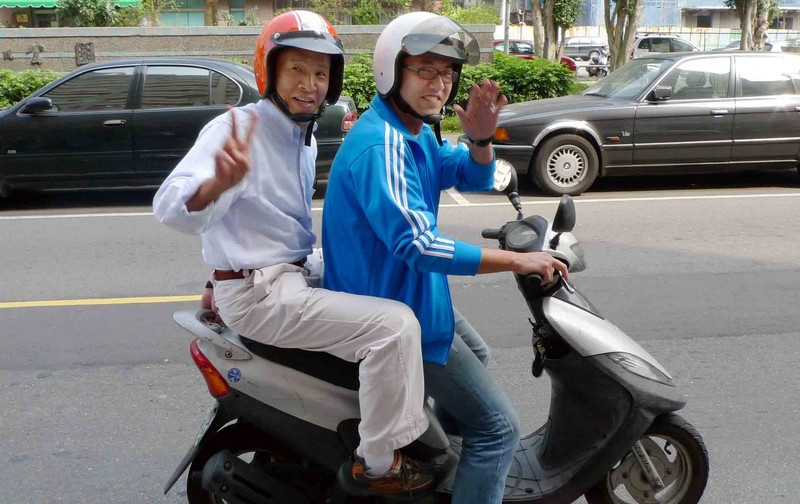helmet: (369, 13, 479, 100), (238, 11, 357, 82)
